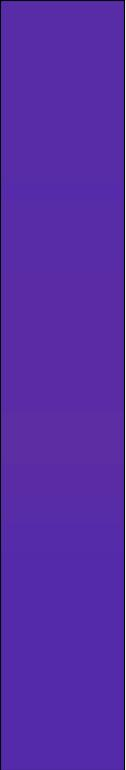safe: (9, 8, 114, 764)
